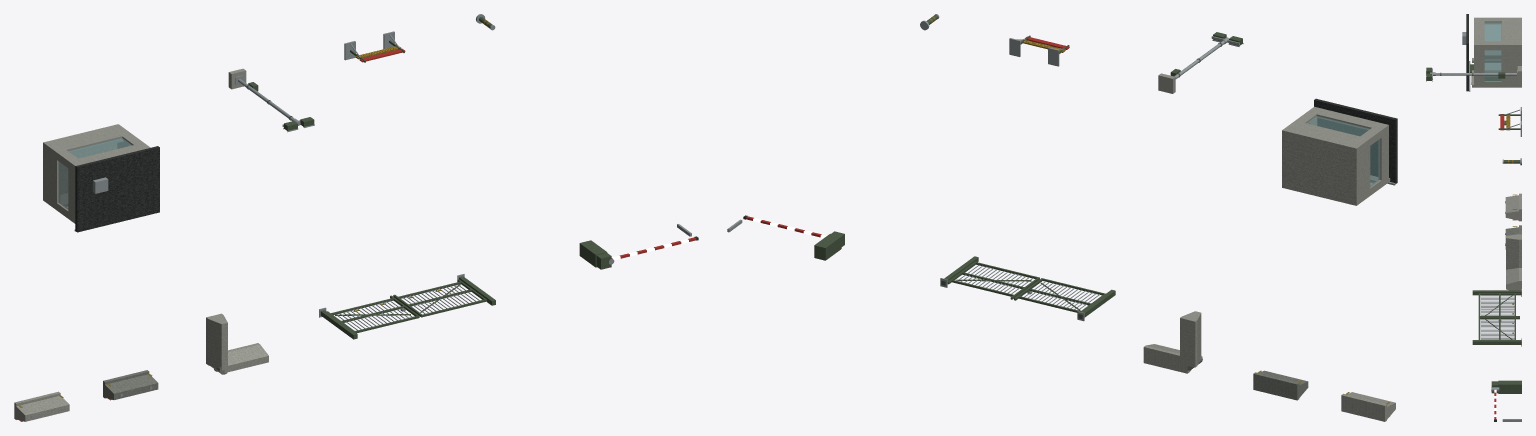
File: PZ_Checkpoint_ALL_Modules_Catalog.glb
The picture shows the model from 3 angles, left to right: view 1: azimuth 30°, elevation 25°; view 2: azimuth 150°, elevation 25°; view 3: azimuth 270°, elevation 25°; orthographic projection. The views are drawn at different scales.
Parts seen in each view (by area): view 1: Guard_Hut_3p4x2p5m__LIFT_OFF_ROOF_PANEL, Jersey_Barrier_Corner90__ARM_Y_2M, Jersey_Barrier_2m__CAST_CONCRETE_PROFILE, Jersey_Barrier_Weathered_2m__CAST_CONCRETE_PROFILE, Guard_Hut_3p4x2p5m__REAR_SILL_WALL, Jersey_Barrier_Corner90__ARM_X_2M, Guard_Hut_3p4x2p5m__WALKABLE_FLOOR_SLAB, Guard_Hut_3p4x2p5m__LEFT_LOW_WALL; view 2: Guard_Hut_3p4x2p5m__WALKABLE_FLOOR_SLAB, Guard_Hut_3p4x2p5m__LIFT_OFF_ROOF_PANEL, Jersey_Barrier_Corner90__ARM_Y_2M, Jersey_Barrier_Weathered_2m__CAST_CONCRETE_PROFILE, Jersey_Barrier_2m__CAST_CONCRETE_PROFILE, Jersey_Barrier_Corner90__ARM_X_2M, Guard_Hut_3p4x2p5m__REAR_SILL_WALL, Guard_Hut_3p4x2p5m__LEFT_LOW_WALL, Guard_Hut_3p4x2p5m__REAR_HEADER_WALL; view 3: Guard_Hut_3p4x2p5m__RIGHT_LOW_WALL, Jersey_Barrier_Corner90__ARM_Y_2M, Guard_Hut_3p4x2p5m__RIGHT_GLASS, Guard_Hut_3p4x2p5m__REAR_SILL_WALL, Guard_Hut_3p4x2p5m__RIGHT_HIGH_WALL, Jersey_Barrier_2m__CAST_CONCRETE_PROFILE, Guard_Hut_3p4x2p5m__REAR_GLAZING_PANE, Jersey_Barrier_Corner90__ARM_X_2M, Guard_Hut_3p4x2p5m__LEFT_GLASS, Vehicle_Boom_Gate_4m__CONTROL_CABINET, Guard_Hut_3p4x2p5m__REAR_HEADER_WALL, Double_Swing_Gate_6m__RIGHT_POST (+11 smaller).
Part boxes in pixels (<box>): Guard_Hut_3p4x2p5m__LIFT_OFF_ROOF_PANEL: <box>75,146,159,232</box>; Jersey_Barrier_Corner90__ARM_Y_2M: <box>206,313,227,370</box>; Jersey_Barrier_2m__CAST_CONCRETE_PROFILE: <box>14,391,69,421</box>; Jersey_Barrier_Weathered_2m__CAST_CONCRETE_PROFILE: <box>103,370,158,399</box>; Guard_Hut_3p4x2p5m__REAR_SILL_WALL: <box>45,125,131,155</box>; Jersey_Barrier_Corner90__ARM_X_2M: <box>214,343,268,372</box>; Guard_Hut_3p4x2p5m__WALKABLE_FLOOR_SLAB: <box>43,124,119,201</box>; Guard_Hut_3p4x2p5m__LEFT_LOW_WALL: <box>45,143,59,210</box>; Guard_Hut_3p4x2p5m__WALKABLE_FLOOR_SLAB: <box>1282,129,1358,205</box>; Guard_Hut_3p4x2p5m__LIFT_OFF_ROOF_PANEL: <box>1314,98,1397,183</box>; Jersey_Barrier_Corner90__ARM_Y_2M: <box>1180,311,1201,367</box>; Jersey_Barrier_Weathered_2m__CAST_CONCRETE_PROFILE: <box>1253,370,1308,400</box>; Jersey_Barrier_2m__CAST_CONCRETE_PROFILE: <box>1341,392,1395,421</box>; Jersey_Barrier_Corner90__ARM_X_2M: <box>1143,344,1190,373</box>; Guard_Hut_3p4x2p5m__REAR_SILL_WALL: <box>1284,121,1369,149</box>; Guard_Hut_3p4x2p5m__LEFT_LOW_WALL: <box>1358,137,1370,203</box>; Guard_Hut_3p4x2p5m__REAR_HEADER_WALL: <box>1307,106,1388,129</box>; Guard_Hut_3p4x2p5m__RIGHT_LOW_WALL: <box>1501,44,1518,87</box>; Jersey_Barrier_Corner90__ARM_Y_2M: <box>1506,234,1521,269</box>; Guard_Hut_3p4x2p5m__RIGHT_GLASS: <box>1484,50,1501,81</box>; Guard_Hut_3p4x2p5m__REAR_SILL_WALL: <box>1502,17,1518,47</box>; Guard_Hut_3p4x2p5m__RIGHT_HIGH_WALL: <box>1474,45,1484,87</box>; Jersey_Barrier_2m__CAST_CONCRETE_PROFILE: <box>1505,193,1521,221</box>; Guard_Hut_3p4x2p5m__REAR_GLAZING_PANE: <box>1484,22,1501,41</box>; Jersey_Barrier_Corner90__ARM_X_2M: <box>1506,268,1521,290</box>; Guard_Hut_3p4x2p5m__LEFT_GLASS: <box>1485,24,1500,54</box>; Vehicle_Boom_Gate_4m__CONTROL_CABINET: <box>1498,380,1521,393</box>; Guard_Hut_3p4x2p5m__REAR_HEADER_WALL: <box>1474,17,1484,47</box>; Double_Swing_Gate_6m__RIGHT_POST: <box>1472,340,1521,344</box>.
Size of the model in its own units: 30 by 12.7 by 5.09.
10 materials, 10 textured.
